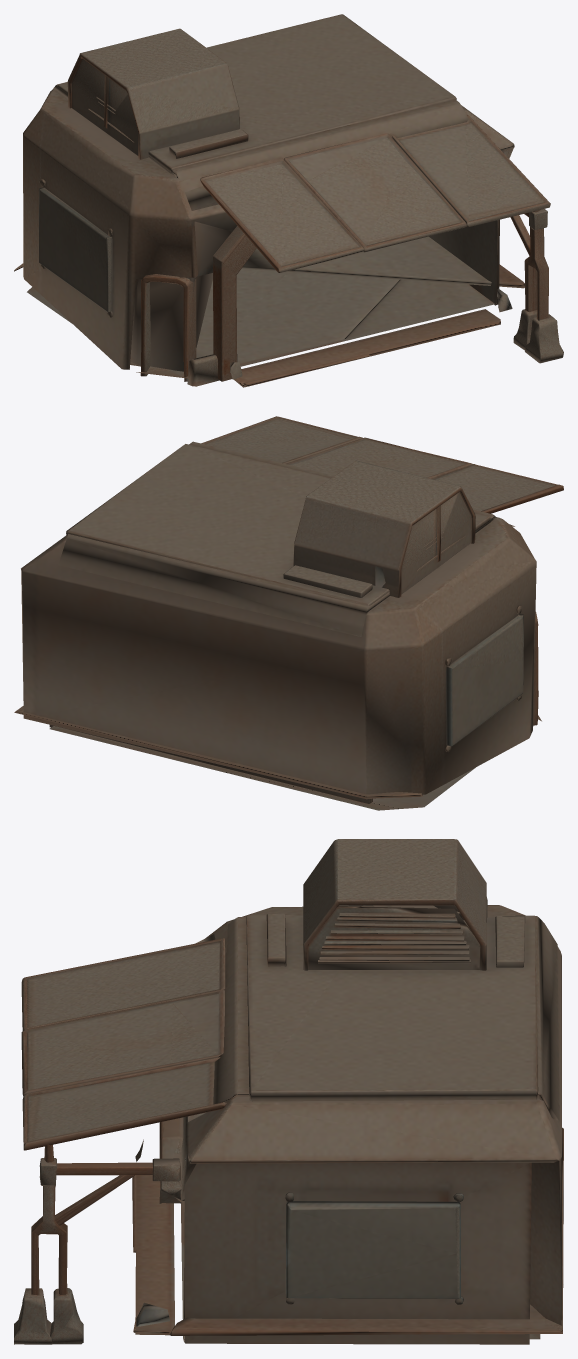
Rendered from repair shop.glb.
The picture shows the model from 3 angles, top to bottom: view 1: azimuth 30°, elevation 25°; view 2: azimuth 150°, elevation 25°; view 3: azimuth 270°, elevation 25°; orthographic projection. The views are drawn at different scales.
Size of the model in its own units: 2 by 1.28 by 2.
1 material, 1 textured.
